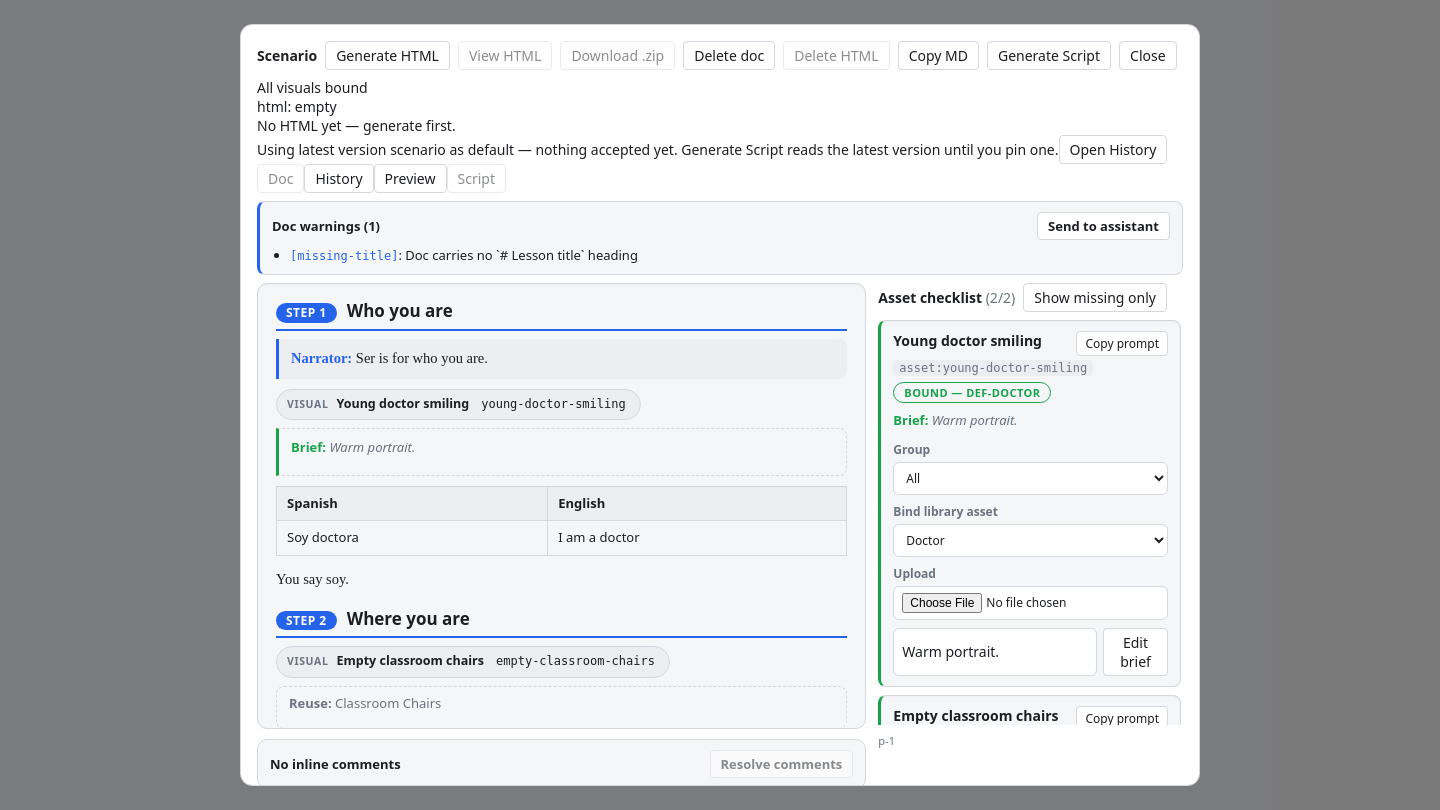
Test case: AiScenarioModal Generate lifecycle (issue #464) › View reports missing bytes instead of showing broken images
Step 1. Click the button with test id "ai-scenario-generate" → (388, 56), box [325,41,450,70]
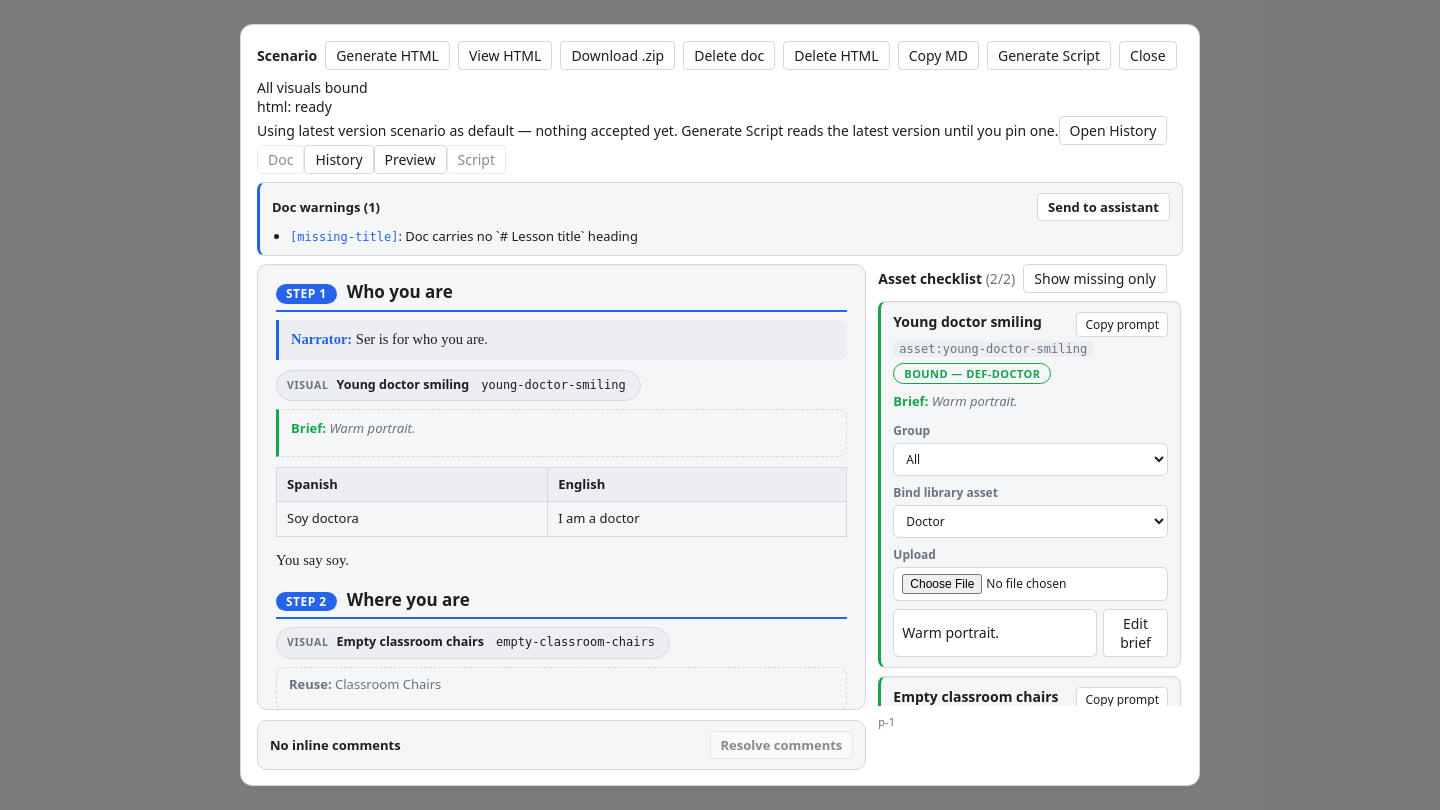
Expected: the text with test id "ai-scenario-html-state" shows "ready", [295,97,332,116]
Step 2. Click the button with test id "ai-scenario-view" → (505, 56), box [458,41,552,70]
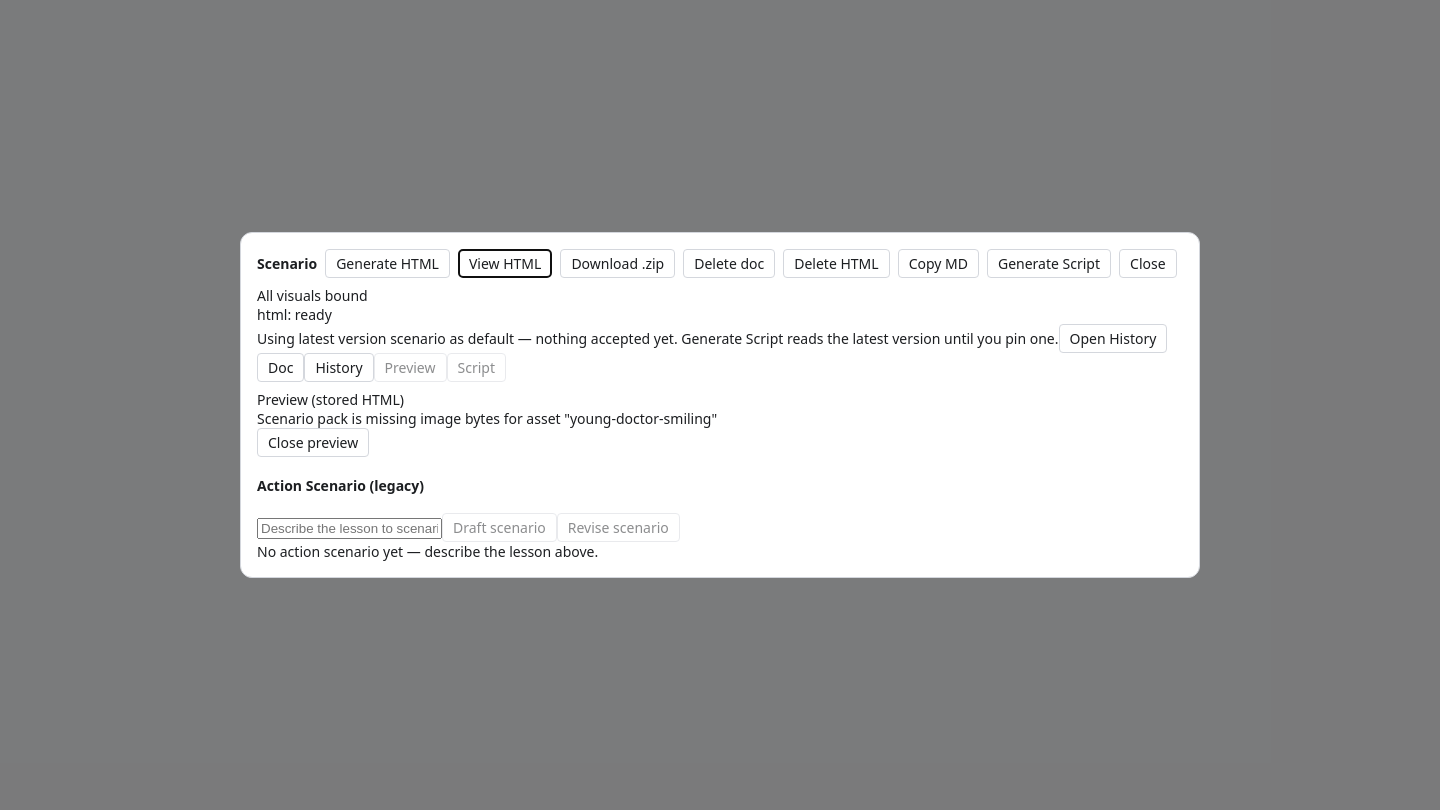
Expected: the element with test id "ai-scenario-html-preview" is shown, [257,390,717,457]
Expected: the text with test id "ai-scenario-html-preview-error" shows "missing image bytes", [257,409,717,428]
